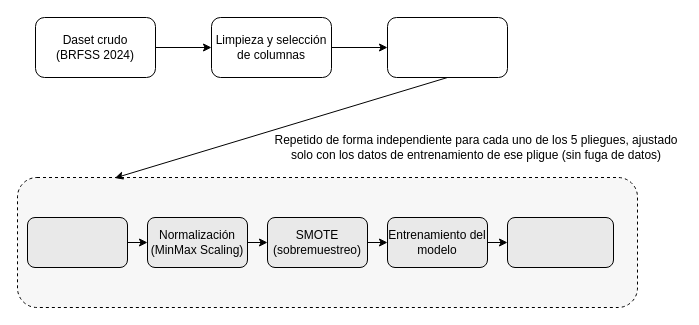
The diagram is 699 pixels wide and 325 high, and some of its shapes have lost their labels. The shapes that lost their labels are listed below. From the top down, each one's box as (x1, y1, x2, y2) in pixels, then its label:
(386, 16, 508, 78): División Stratified K-Fold (5 pliegues)
(26, 216, 128, 268): Imputación proporcional
(506, 216, 614, 268): Evaluación (desempeño y equidad por grupo)
